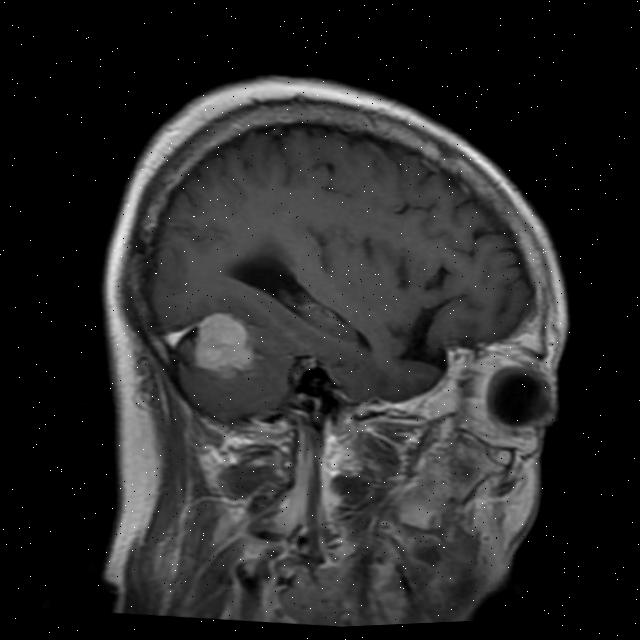Meningioma: (159, 303, 262, 383)
